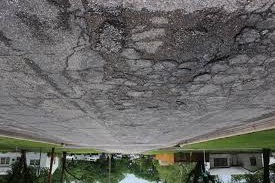pothole: (93, 4, 272, 65)
